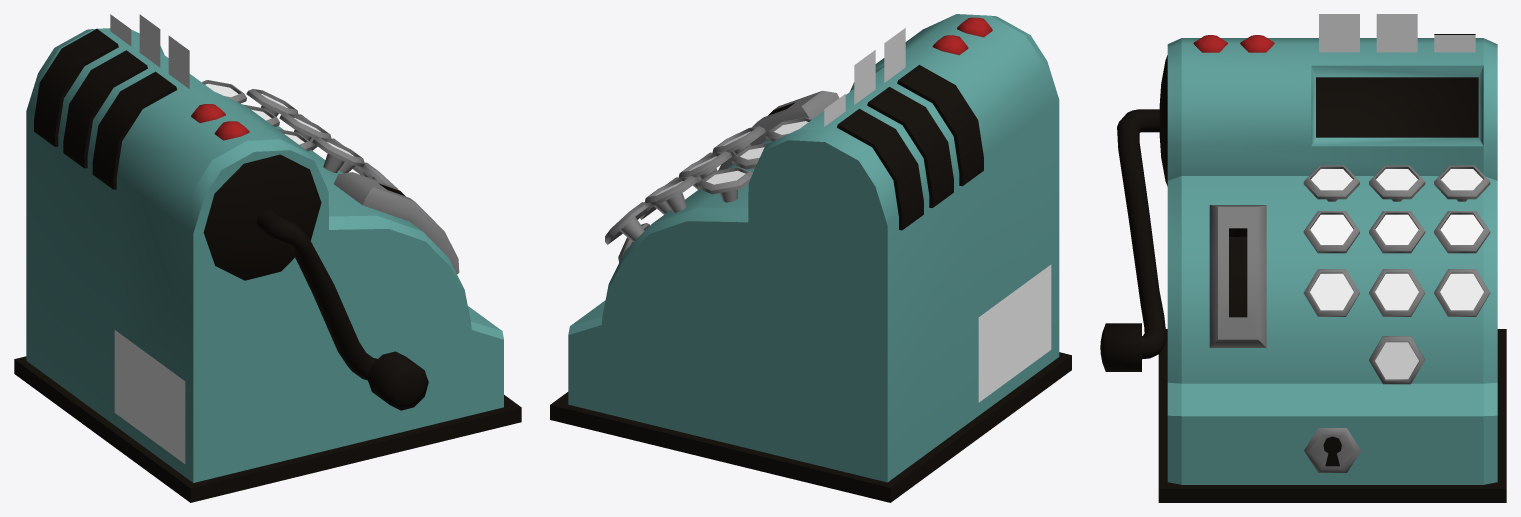
Rendered from GB_090_cash_register.glb.
The picture shows the model from 3 angles, left to right: view 1: azimuth 30°, elevation 25°; view 2: azimuth 150°, elevation 25°; view 3: azimuth 270°, elevation 25°; orthographic projection. The views are drawn at different scales.
Parts seen in each view (by area): view 1: cash_register; view 2: cash_register; view 3: cash_register.
Boxes of the visible parts, bbox=[...] form: cash_register: bbox=[14, 14, 521, 502]; cash_register: bbox=[550, 14, 1071, 502]; cash_register: bbox=[1100, 14, 1506, 502].
Bounding box in the file's own units: 0.6963 × 0.75 × 0.75.
